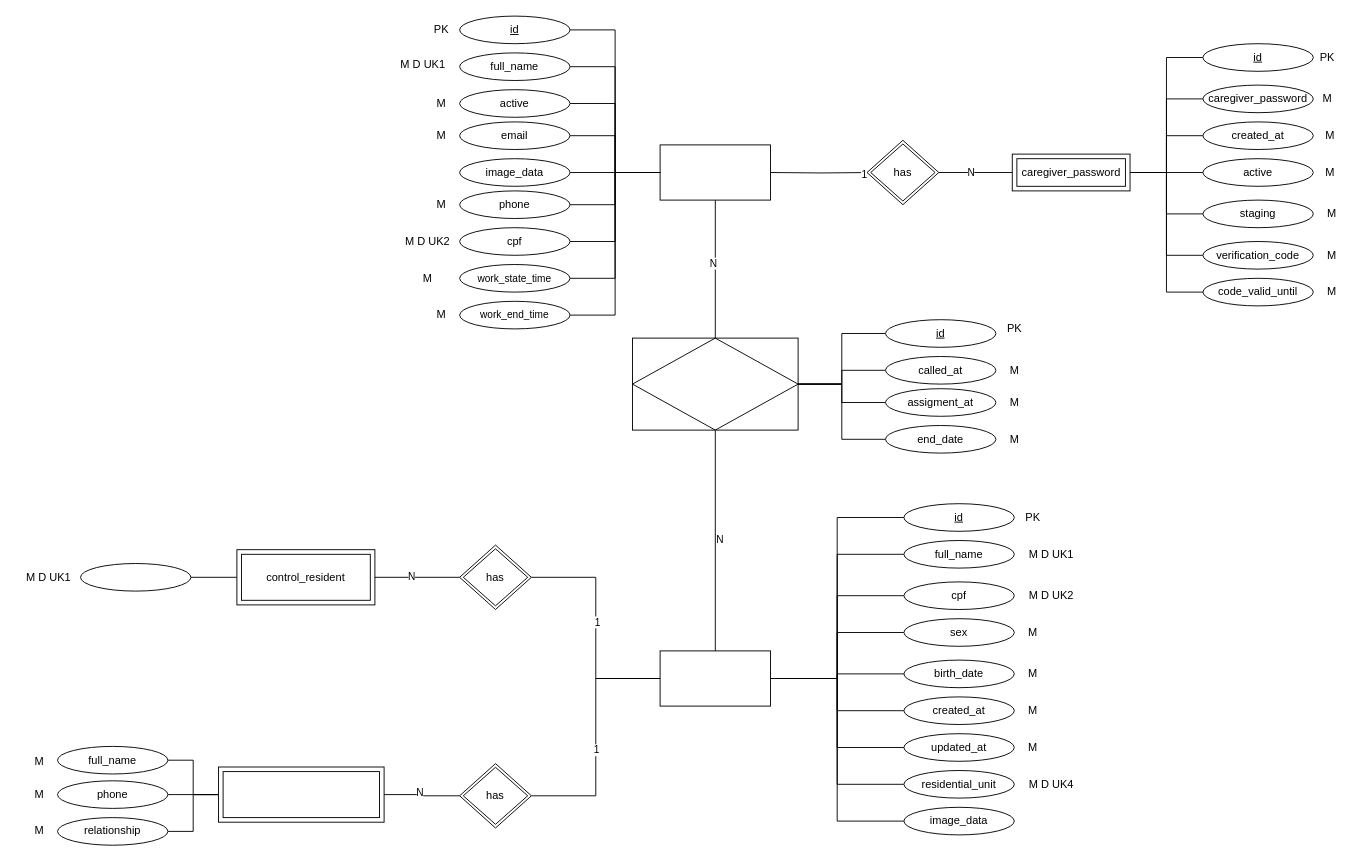
This 1361x862 diagram has some shape labels left out. The centre of each missing label's shape, as x and y in pixels:
"caregiver" goes at (714,172).
"caregiver_assigment_resident" goes at (715,383).
"control_id" goes at (135,577).
"resident" goes at (714,678).
"resident_emergency_contact" goes at (301,794).
